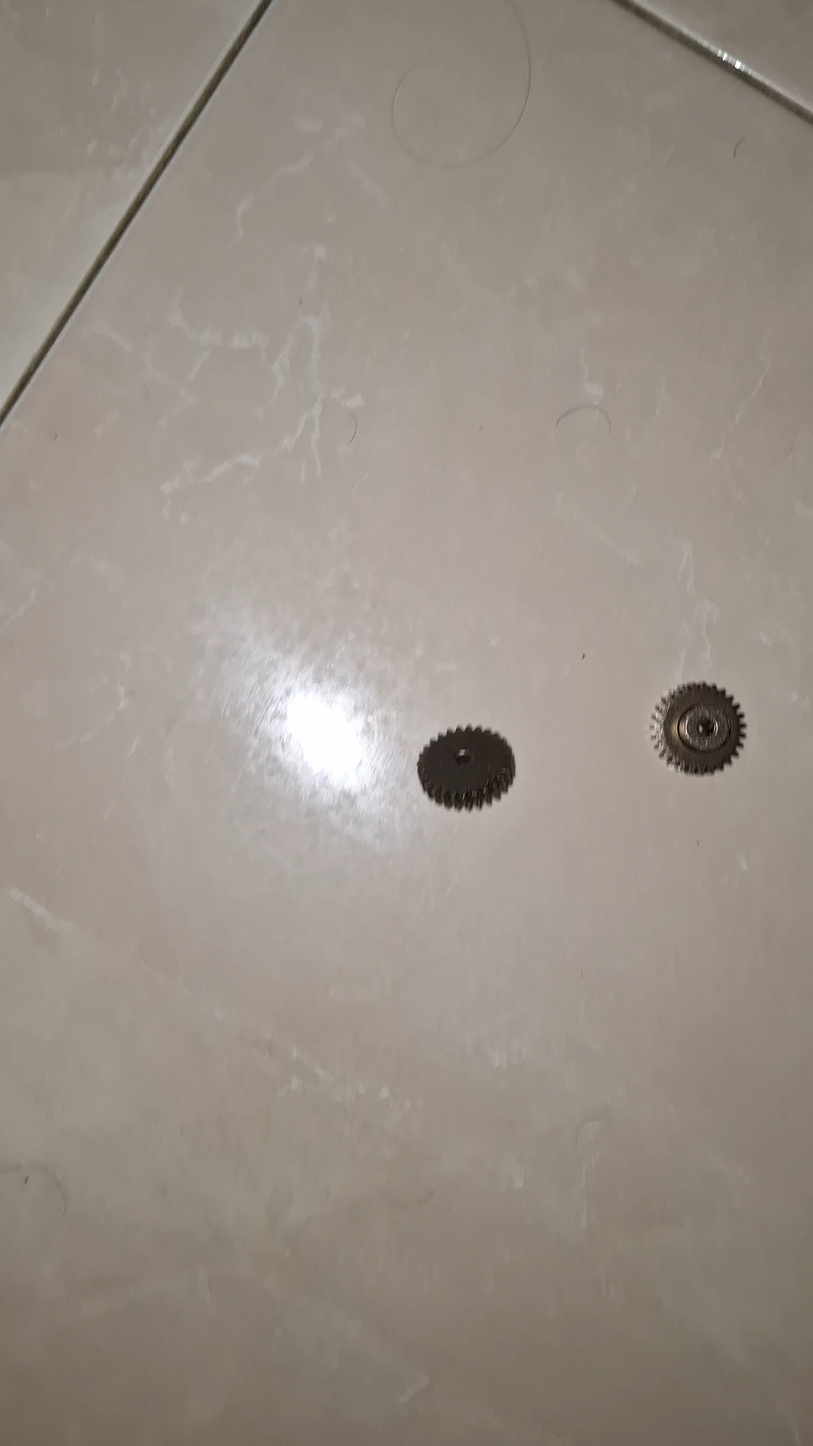spur gear: (652, 682, 745, 774), (417, 727, 515, 810)
